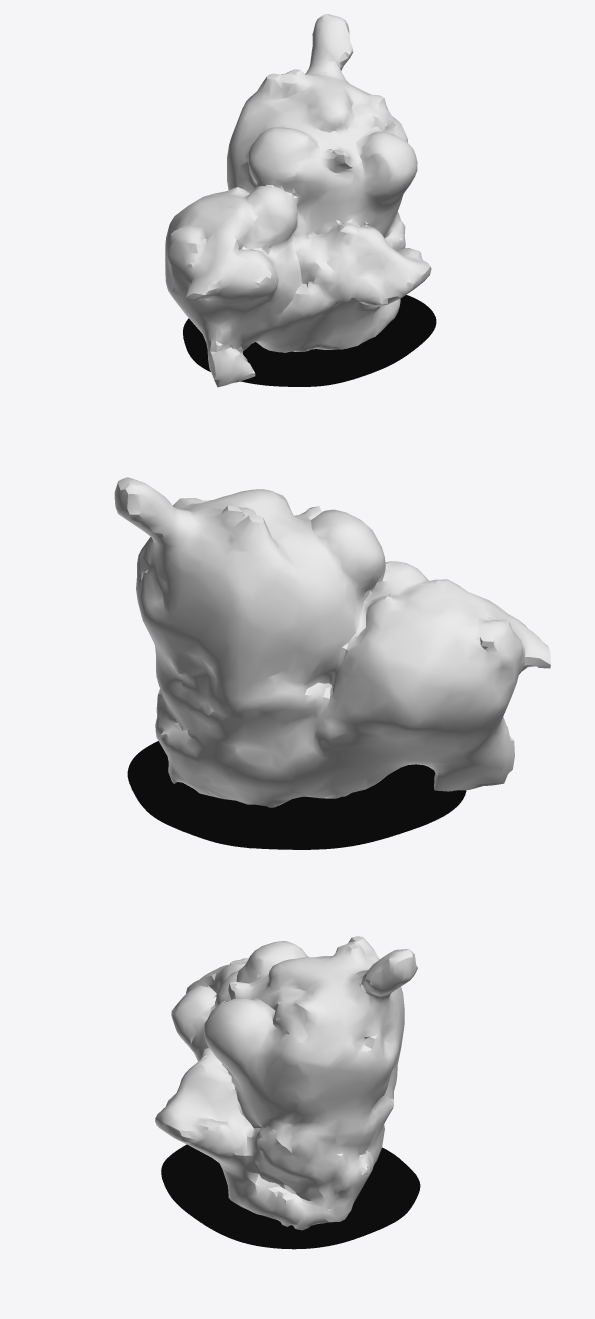
File: samuraiStatue2.fbx
The picture shows the model from 3 angles, top to bottom: view 1: azimuth 30°, elevation 25°; view 2: azimuth 150°, elevation 25°; view 3: azimuth 270°, elevation 25°; orthographic projection. The views are drawn at different scales.
Visible parts, largest first — view 1: lowPoly, shadow2; view 2: lowPoly, shadow2; view 3: lowPoly, shadow2.
Boxes of the visible parts, box(x1,y1,x2,y2) form: lowPoly: box(165, 14, 431, 387); shadow2: box(183, 295, 436, 386); lowPoly: box(114, 477, 550, 807); shadow2: box(127, 741, 466, 849); lowPoly: box(155, 936, 417, 1230); shadow2: box(161, 1144, 420, 1249).
Bounding box in the file's own units: 566 × 307 × 566.
